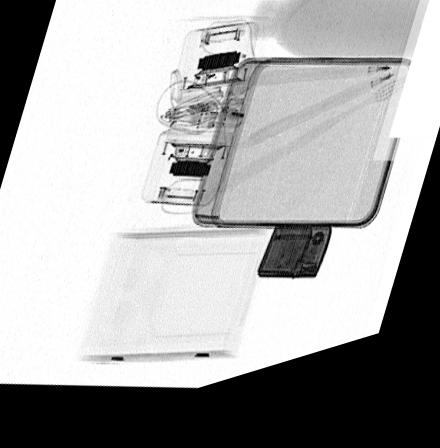Lighter: (255, 241, 332, 297)
